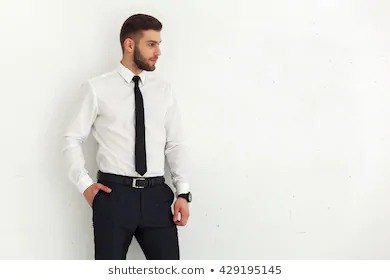F_belt: (96, 175, 172, 185)
F_shirt: (71, 60, 196, 198)
F_tie: (128, 70, 151, 178)
